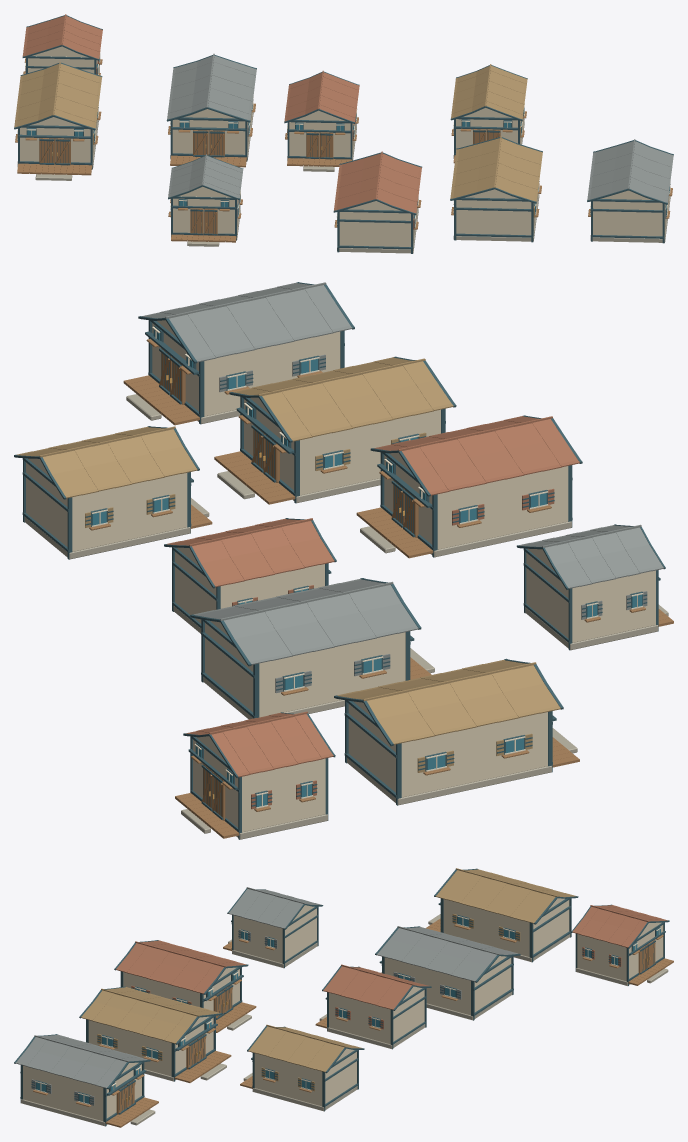
Rendered from 07_Warehouses.glb.
3 views of the same model, one above another, from view 1: azimuth 30°, elevation 25°; view 2: azimuth 150°, elevation 25°; view 3: azimuth 270°, elevation 25° (orthographic). The views are drawn at different scales.
Visible parts, largest first — view 1: AC_Warehouse_Long_054, AC_Warehouse_Long_055, AC_Warehouse_Long_060, AC_Warehouse_Long_059, AC_Warehouse_Long_061, AC_Warehouse_Long_056, AC_Warehouse_Long_058, AC_Warehouse_Long_057, AC_Warehouse_Long_053; view 2: AC_Warehouse_Long_054, AC_Warehouse_Long_055, AC_Warehouse_Long_059, AC_Warehouse_Long_060, AC_Warehouse_Long_061, AC_Warehouse_Long_057, AC_Warehouse_Long_053, AC_Warehouse_Long_058, AC_Warehouse_Long_056; view 3: AC_Warehouse_Long_061, AC_Warehouse_Long_060, AC_Warehouse_Long_054, AC_Warehouse_Long_055, AC_Warehouse_Long_057, AC_Warehouse_Long_059, AC_Warehouse_Long_056, AC_Warehouse_Long_053, AC_Warehouse_Long_058.
Boxes of the visible parts, x1,y1,x2,y2 form: AC_Warehouse_Long_054: (14, 61, 102, 180); AC_Warehouse_Long_055: (166, 53, 256, 167); AC_Warehouse_Long_060: (450, 136, 542, 242); AC_Warehouse_Long_059: (333, 151, 422, 253); AC_Warehouse_Long_061: (587, 139, 673, 243); AC_Warehouse_Long_056: (284, 70, 359, 171); AC_Warehouse_Long_058: (168, 154, 243, 246); AC_Warehouse_Long_057: (450, 64, 527, 163); AC_Warehouse_Long_053: (22, 14, 102, 75); AC_Warehouse_Long_054: (334, 658, 579, 805); AC_Warehouse_Long_055: (190, 578, 434, 719); AC_Warehouse_Long_059: (356, 415, 582, 558); AC_Warehouse_Long_060: (214, 356, 456, 504); AC_Warehouse_Long_061: (123, 282, 354, 425); AC_Warehouse_Long_057: (14, 426, 212, 559); AC_Warehouse_Long_053: (175, 711, 335, 839); AC_Warehouse_Long_058: (516, 524, 673, 650); AC_Warehouse_Long_056: (164, 518, 336, 633); AC_Warehouse_Long_061: (14, 1034, 158, 1127); AC_Warehouse_Long_060: (79, 986, 231, 1082); AC_Warehouse_Long_054: (426, 868, 578, 962); AC_Warehouse_Long_055: (375, 926, 520, 1020); AC_Warehouse_Long_057: (240, 1024, 364, 1111); AC_Warehouse_Long_059: (114, 940, 256, 1032); AC_Warehouse_Long_056: (315, 964, 431, 1049); AC_Warehouse_Long_053: (571, 904, 673, 985); AC_Warehouse_Long_058: (223, 887, 323, 968).
Size of the model in its own units: 49.91 by 5.68 by 62.42.
